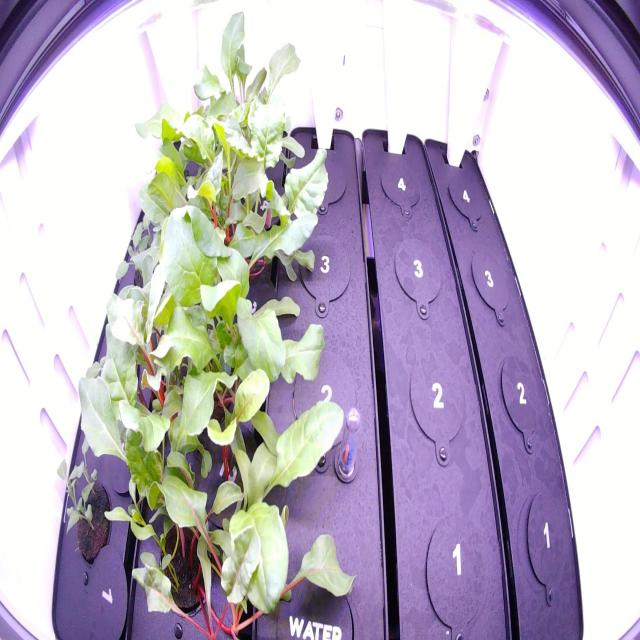empty_pod: (419, 503, 495, 635), (284, 337, 358, 451), (404, 346, 468, 453), (519, 483, 572, 597), (494, 346, 547, 449), (290, 225, 354, 304), (389, 231, 446, 318), (464, 242, 520, 327), (289, 141, 350, 213), (374, 154, 427, 220), (441, 168, 491, 232)
